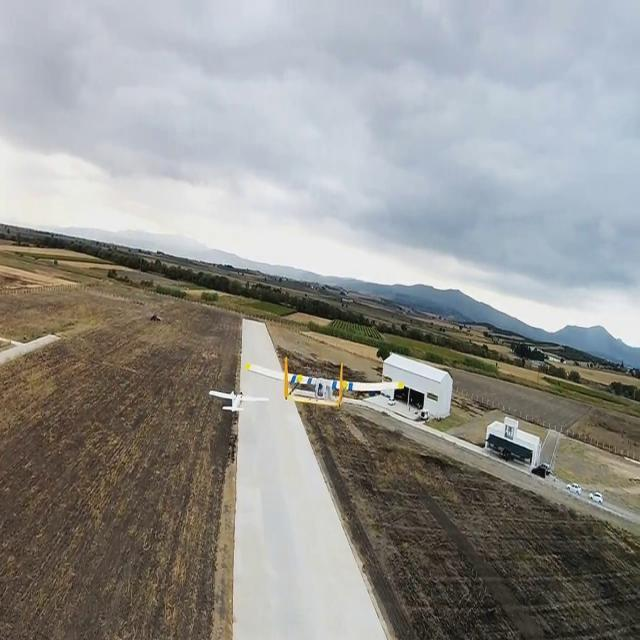iha: (273, 369, 424, 393), (234, 370, 238, 423)
